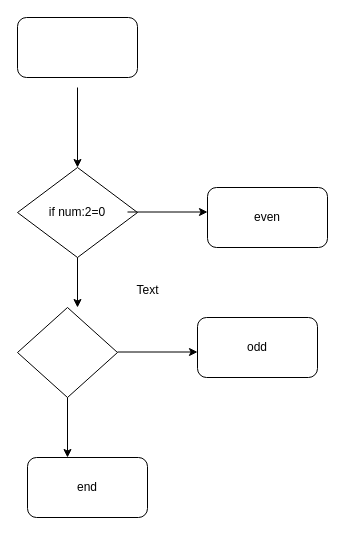
Some shapes in this 345 by 535 pixel diagram are drawn without their labels. Here are the shapes that lost their labels. From the top down, the centre of each, then its label:
At [77,47]: "Start".
At [67,352]: "if num :2=e !-0".
